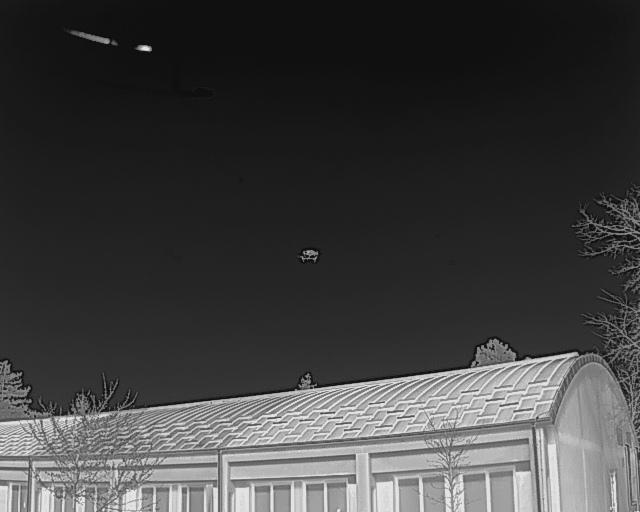drone: (293, 240, 325, 274)
